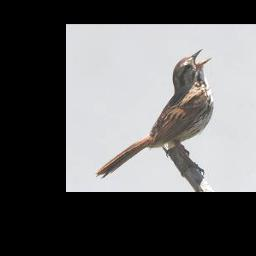Sparrow: (94, 47, 213, 180)
